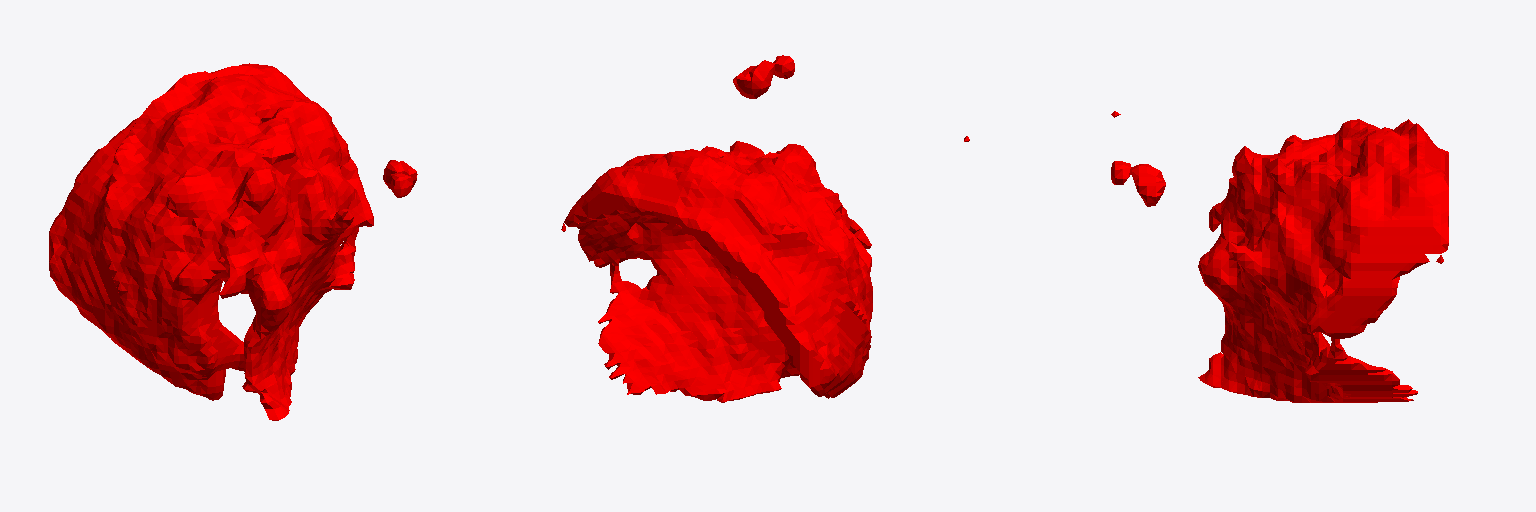
File: B939XXXX-1_valve_30.obj
3 renders of one model, left to right at view 1: azimuth 30°, elevation 25°; view 2: azimuth 150°, elevation 25°; view 3: azimuth 270°, elevation 25°, orthographic.
Visible parts, largest first — view 1: 30_valve; view 2: 30_valve; view 3: 30_valve.
Part boxes in pixels (x1,y1,x2,y2): 30_valve: (49,63,417,420); 30_valve: (561,55,969,402); 30_valve: (1111,111,1448,402).
Bounding box in the file's own units: 75.98 × 72.31 × 82.97.